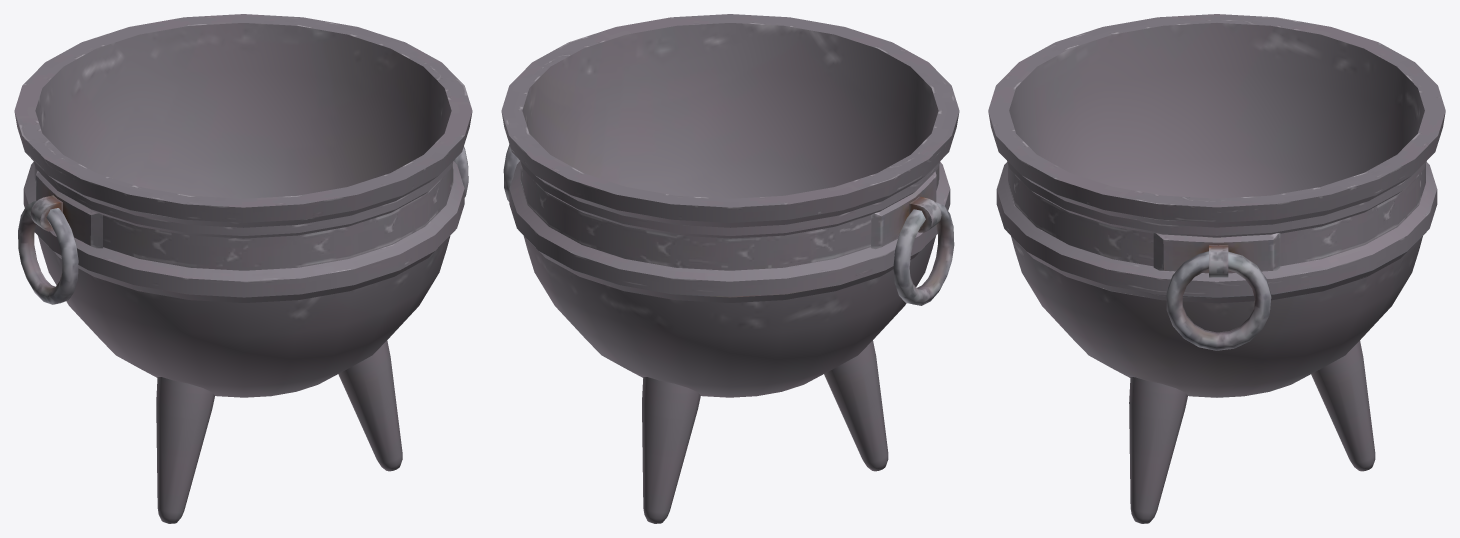
The model's file is Cauldron.glb.
3 views of the same model, side by side, from view 1: azimuth 30°, elevation 25°; view 2: azimuth 150°, elevation 25°; view 3: azimuth 270°, elevation 25° (orthographic).
Visible parts, largest first — view 1: Cauldron; view 2: Cauldron; view 3: Cauldron.
Part boxes in pixels (left/top/right/bottom): Cauldron: left=14, top=14, right=472, bottom=523; Cauldron: left=501, top=14, right=959, bottom=523; Cauldron: left=988, top=14, right=1445, bottom=523.
Size of the model in its own units: 0.9891 by 0.8156 by 0.9439.
1 material, 1 textured.
